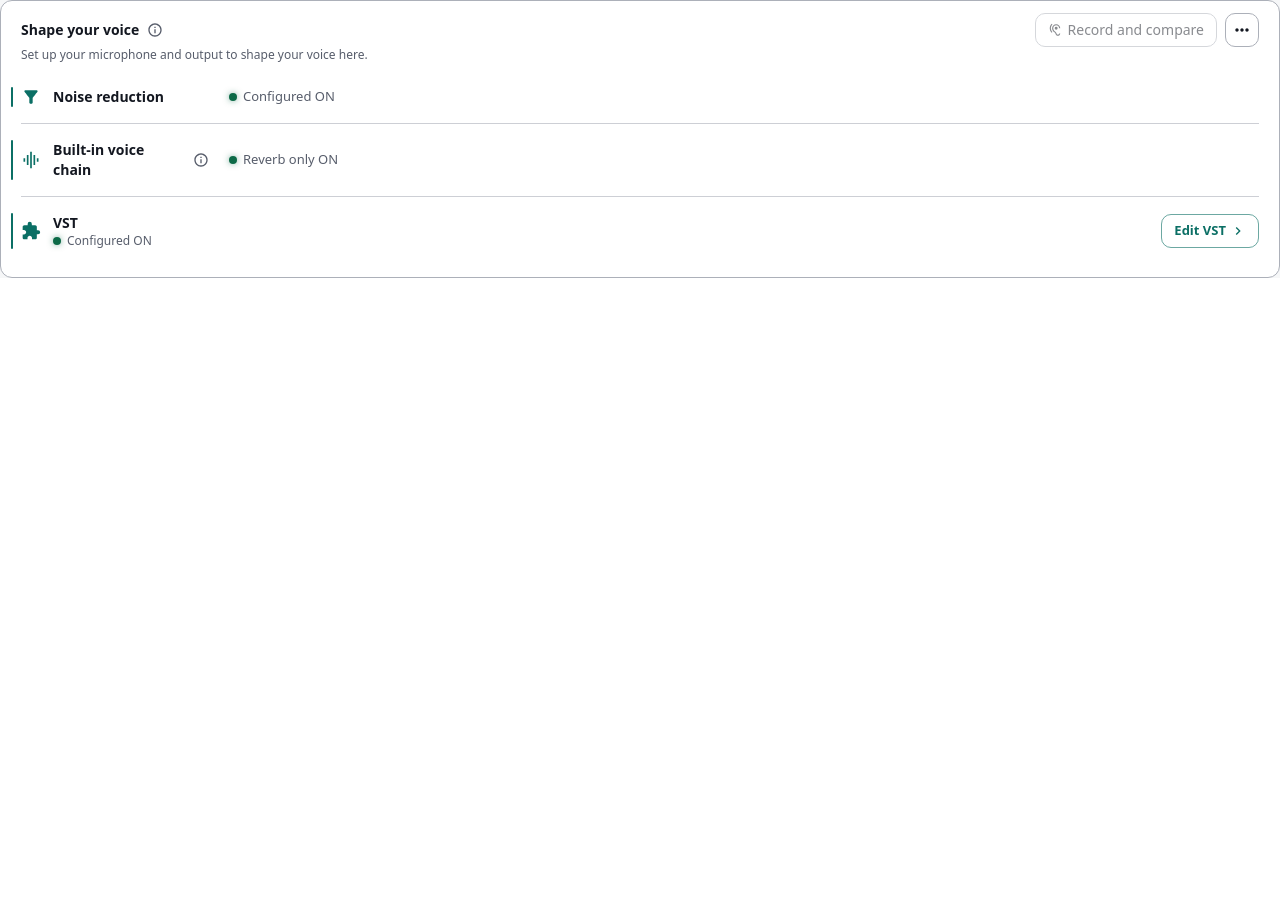
声の処理を音の流れの順に行カードで並べ、操作できない間は各段の設定状態を表示する (en)
Expected: the number of list items is 3, [21, 71, 1259, 124]; [21, 124, 1259, 197]; [21, 213, 1259, 249]
Expected: the list item "Noise reduction Configured ON" is shown, [21, 71, 1259, 124]
Click the button named "About the signal flow" at (155, 30), box [143, 18, 167, 42]
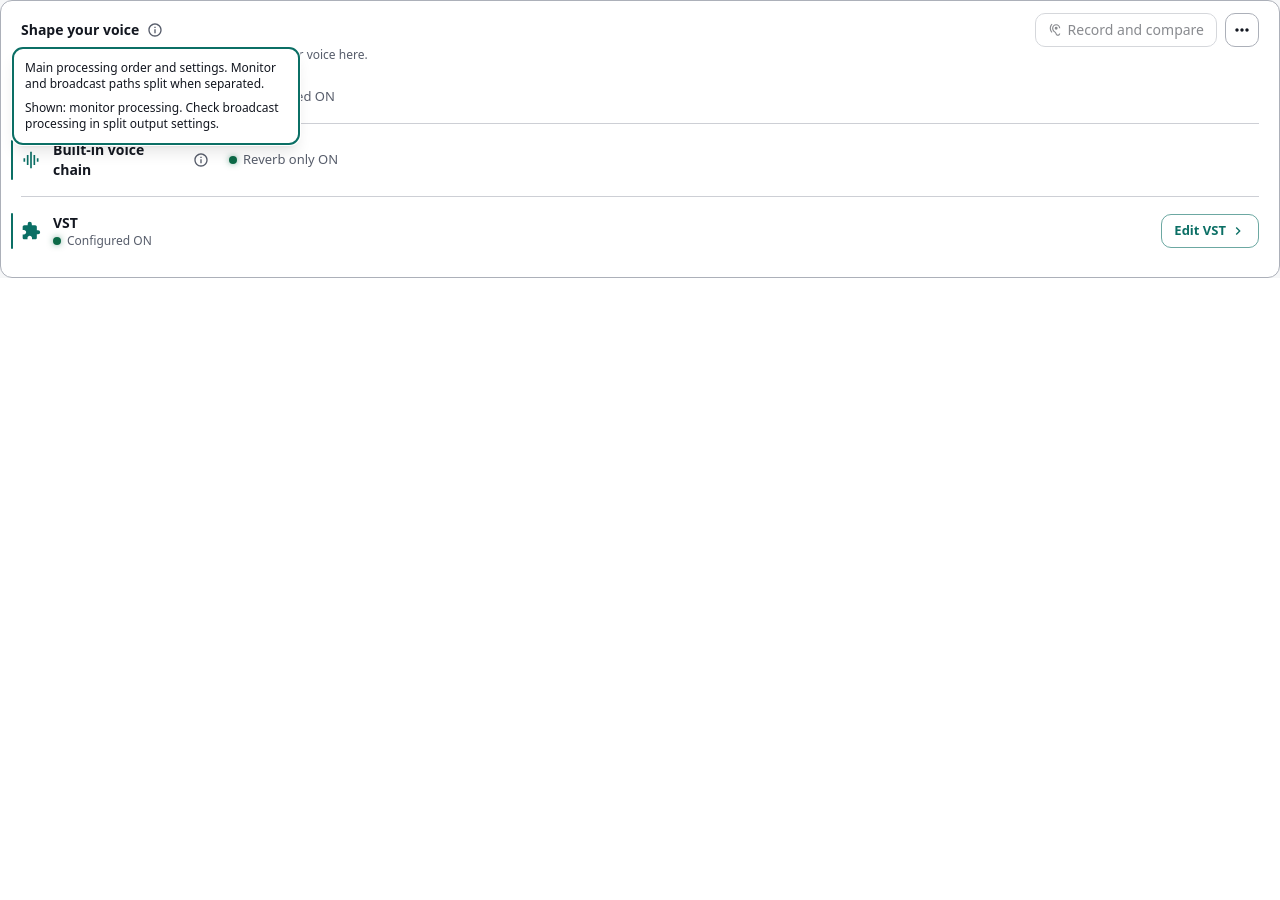
Expected: the dialog shows "Main processing order and settings. Monitor and broadcast paths split when separated.", [25, 59, 276, 92]
Expected: the dialog shows "Shown: monitor processing. Check broadcast processing in split output settings.", [25, 99, 279, 132]
